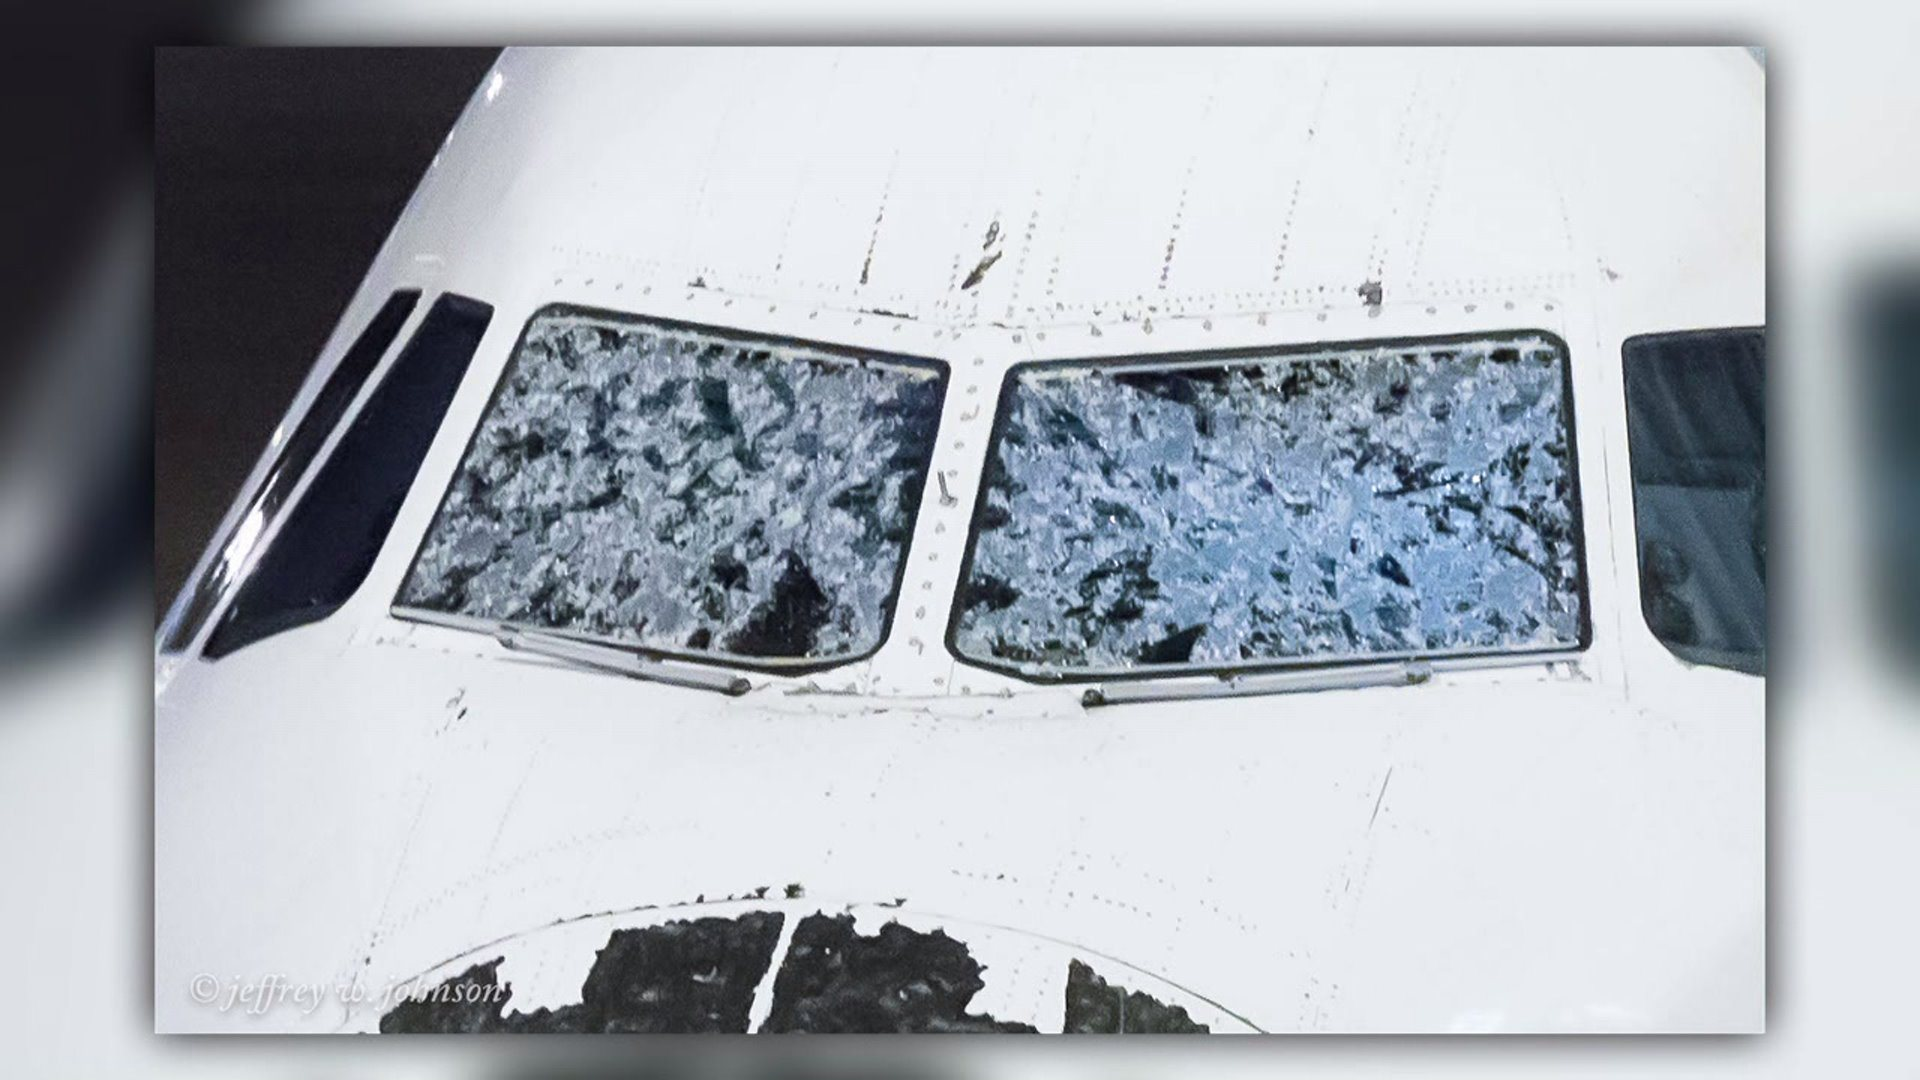crack: (512, 274, 911, 676), (1039, 371, 1491, 655)
